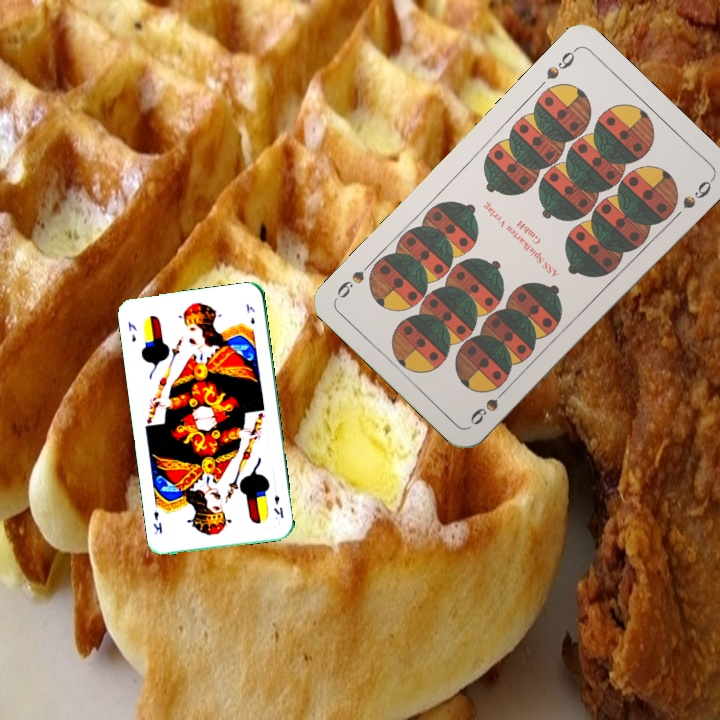EK: (270, 491, 286, 520), (124, 318, 139, 344)
S9: (466, 381, 512, 428), (542, 44, 580, 82)
